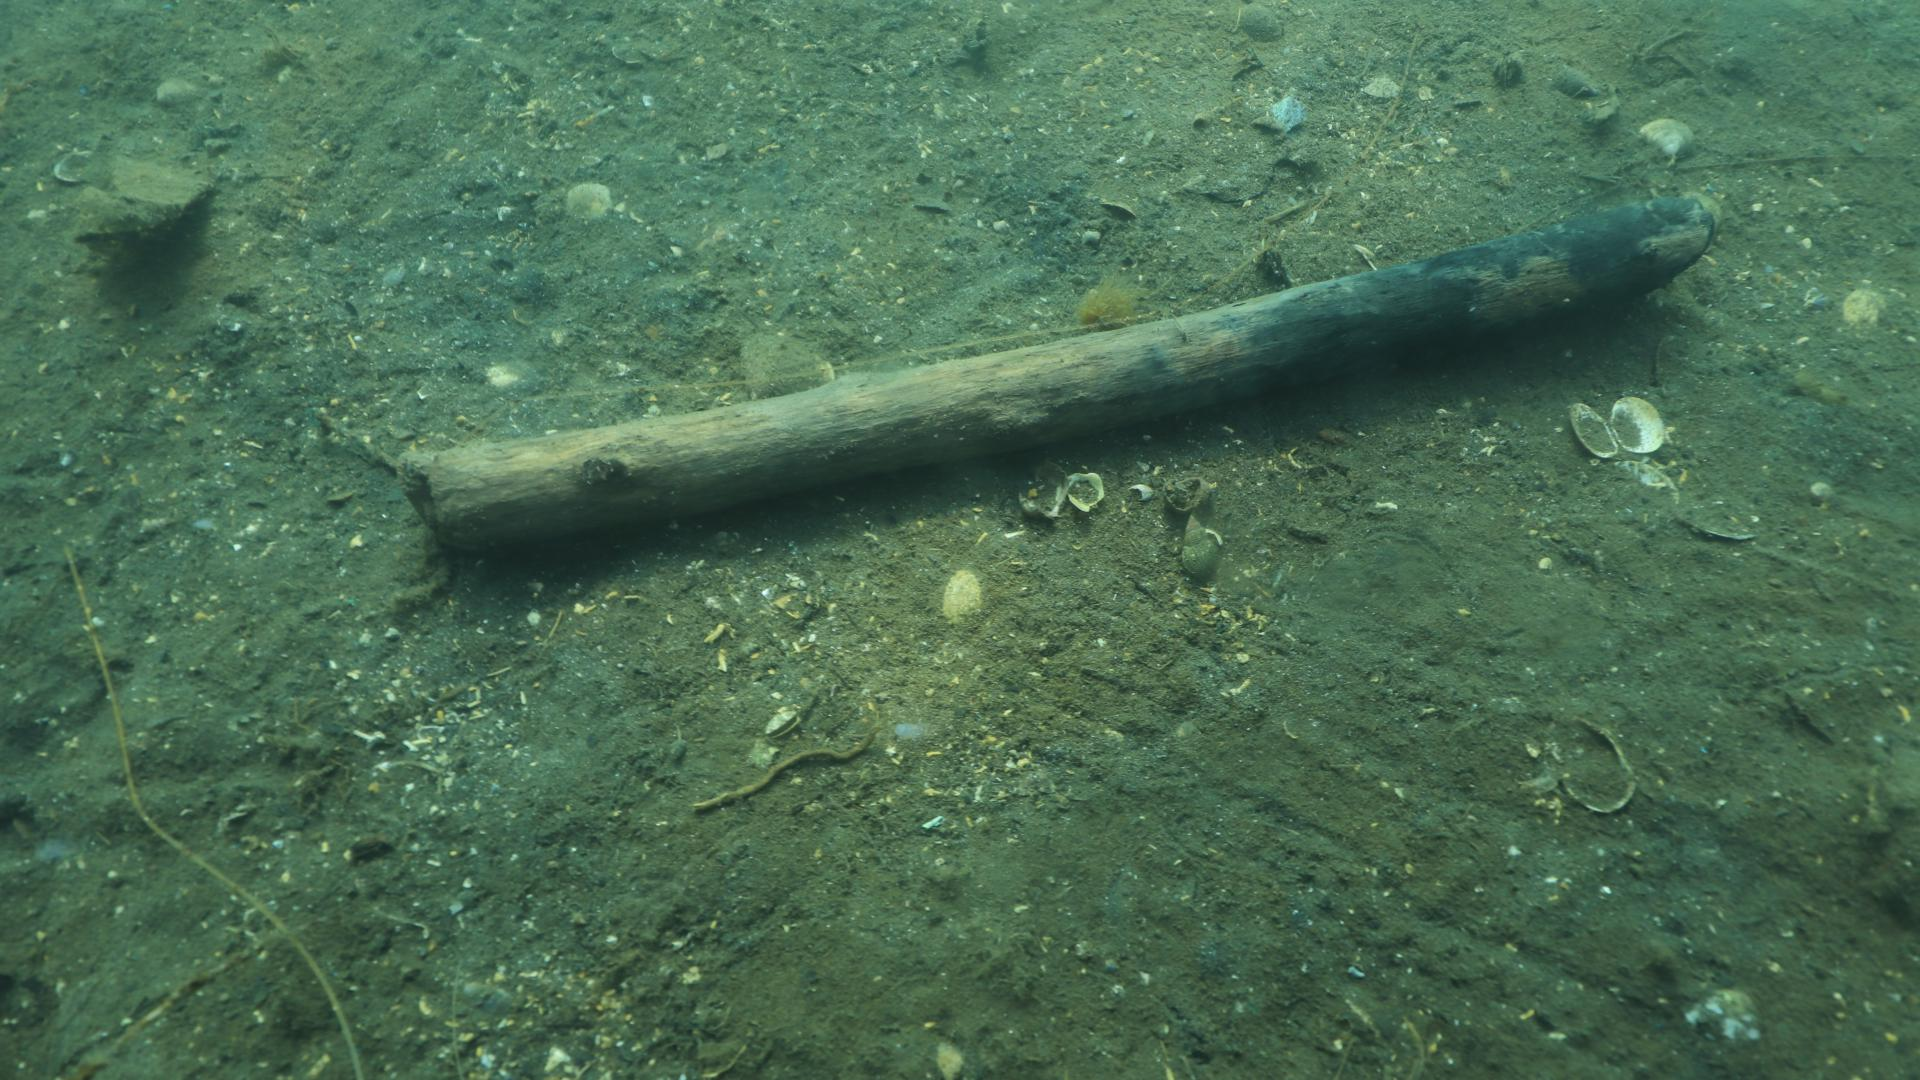wood: (394, 189, 1720, 551)
